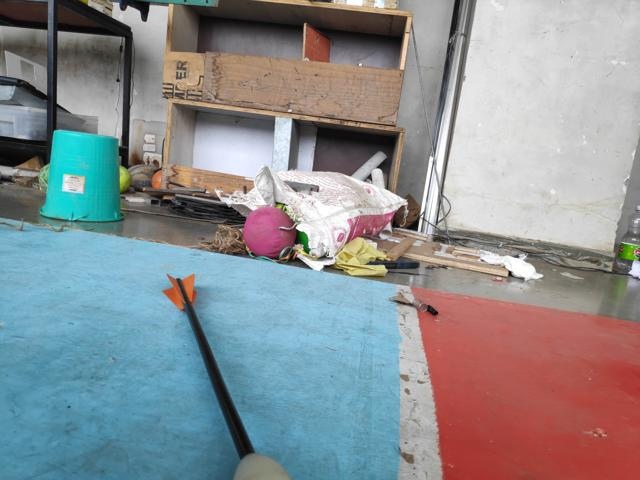Head: (225, 451, 296, 480)
Tail: (159, 266, 201, 312)
